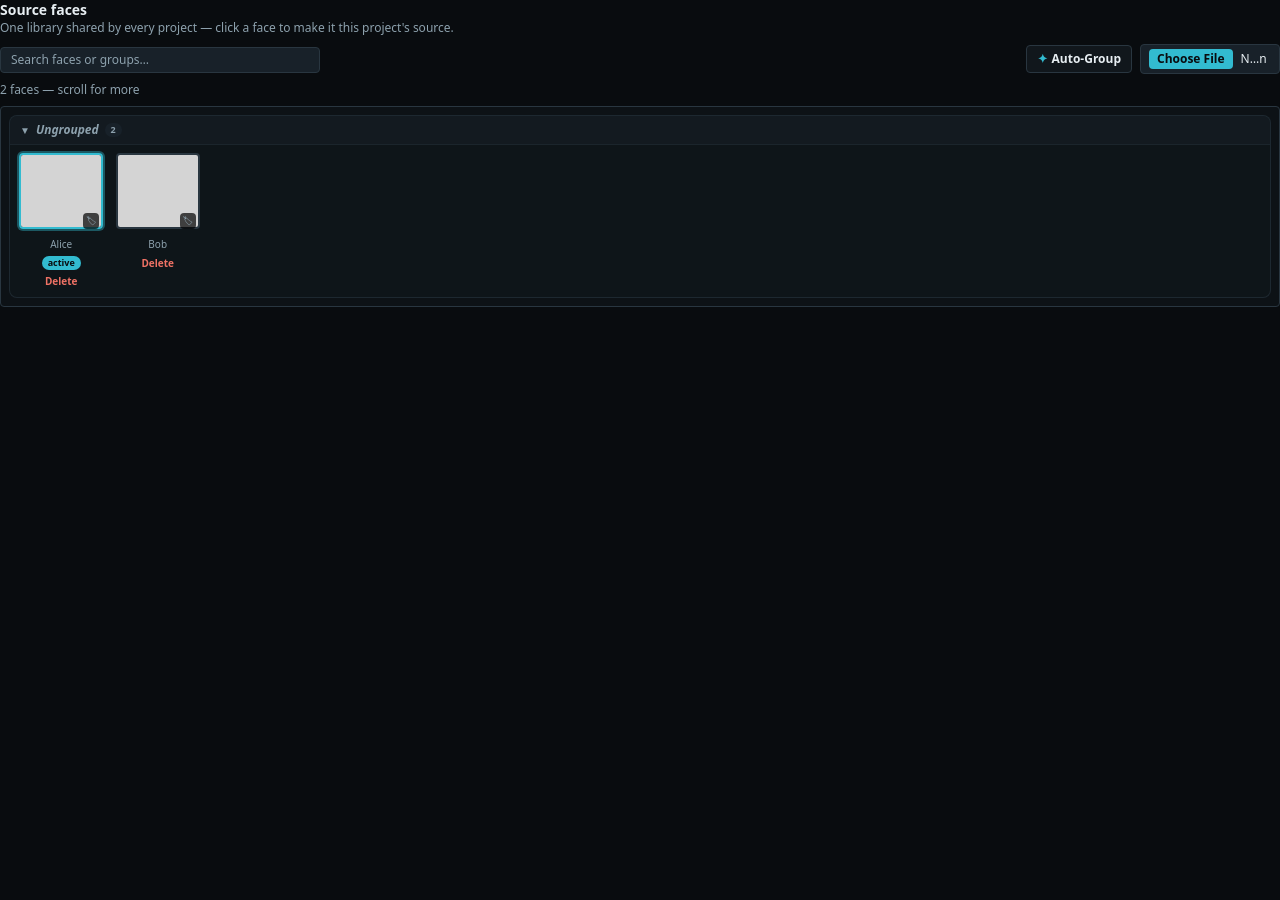
it: cascade delete flow (D-05) › fetches usage first and names the affected projects before offering confirm
Check: the element with test id "face-strip" is shown, box x1=0 y1=106 x2=1279 y2=306
Step 1. Click the button "Delete" below "active" → (61, 281), box x1=45 y1=274 x2=78 y2=288
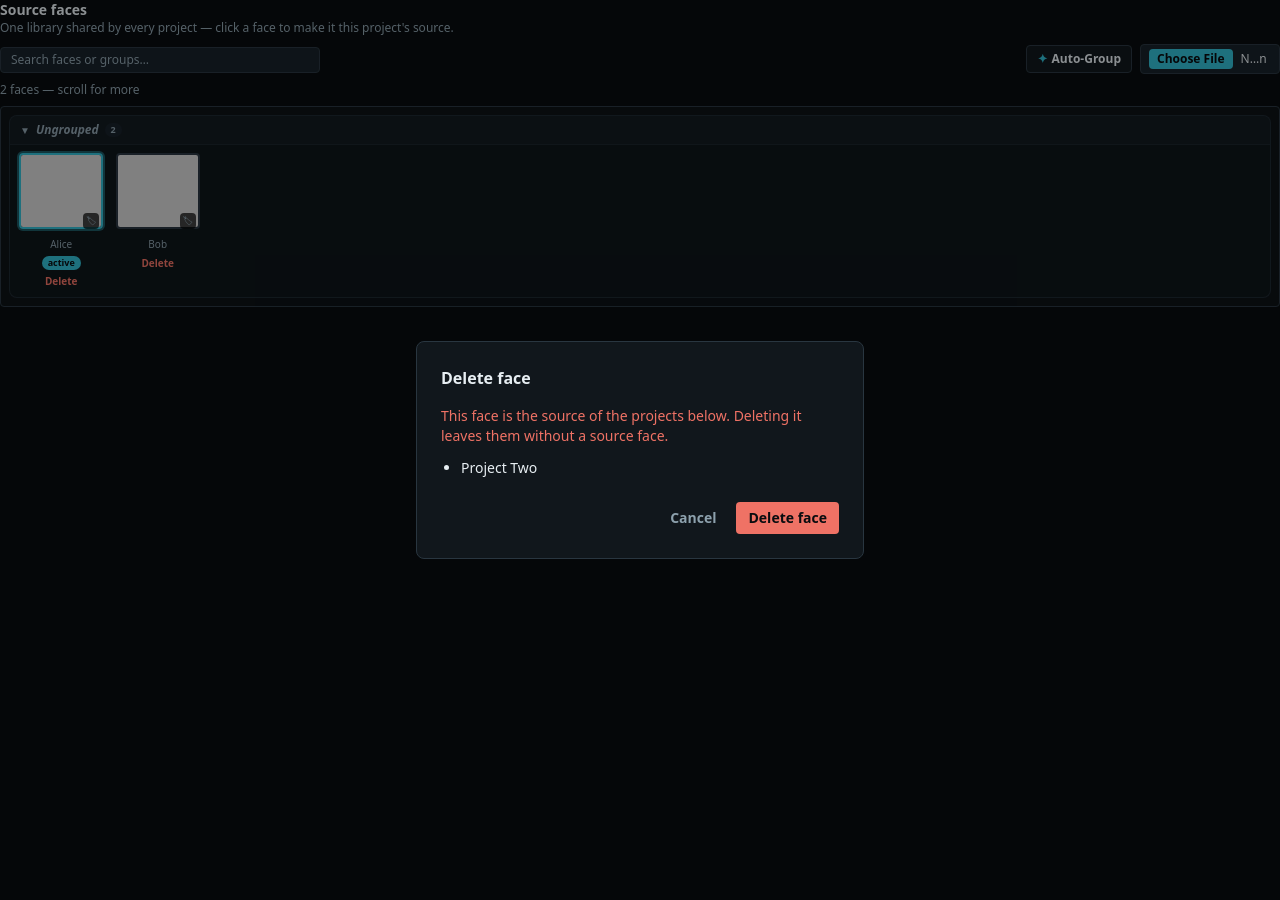
Check: the button with test id "face-delete-confirm" is shown, box x1=736 y1=502 x2=839 y2=534
Check: the text with test id "face-delete-warning" is shown, box x1=441 y1=406 x2=839 y2=446
Check: the list item "Project Two" is shown, box x1=461 y1=458 x2=537 y2=477
